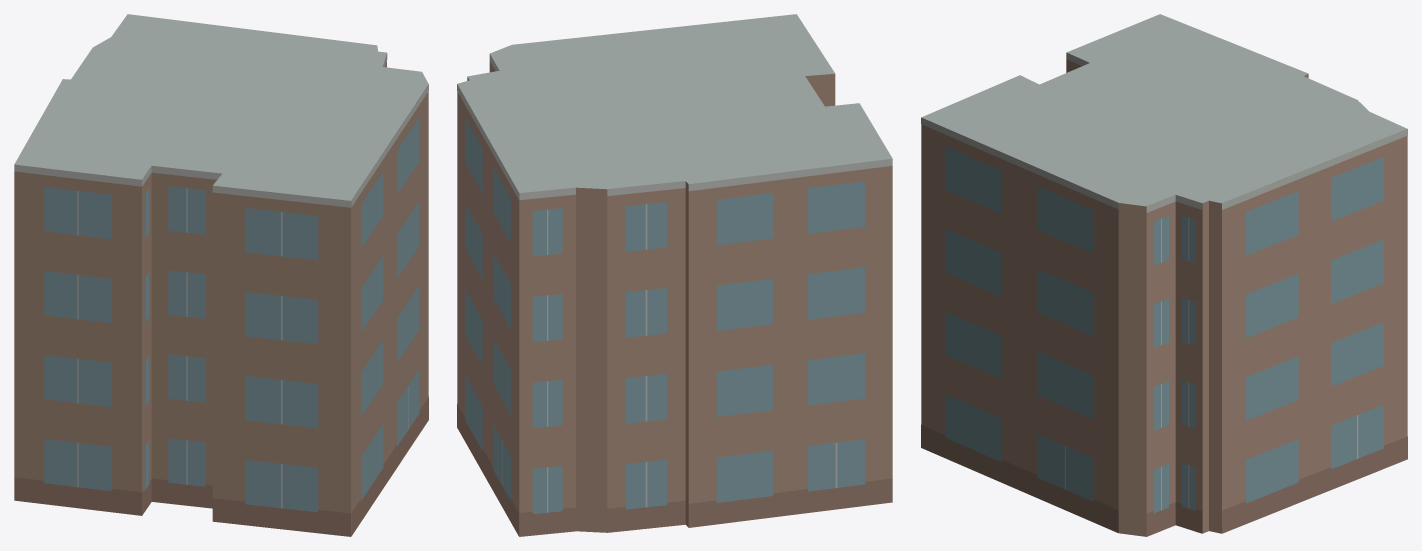
File: survey-upis-32950165.glb
3 views of the same model, side by side, from view 1: azimuth 30°, elevation 25°; view 2: azimuth 150°, elevation 25°; view 3: azimuth 270°, elevation 25° (orthographic). The views are drawn at different scales.
Parts seen in each view (by area): view 1: survey-upis-32950165.tmp; view 2: survey-upis-32950165.tmp; view 3: survey-upis-32950165.tmp.
Boxes of the visible parts, left/top/right/bottom form: survey-upis-32950165.tmp: left=14, top=14, right=428, bottom=536; survey-upis-32950165.tmp: left=457, top=14, right=892, bottom=536; survey-upis-32950165.tmp: left=921, top=14, right=1407, bottom=536.
Size of the model in its own units: 15 by 12 by 16.02.
